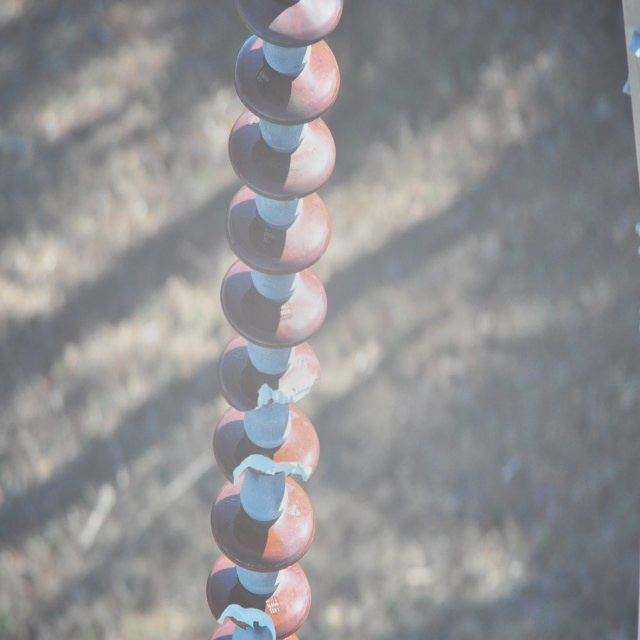broken: (226, 449, 312, 489), (249, 373, 325, 414), (215, 600, 285, 640)
insulator: (204, 0, 344, 636)
